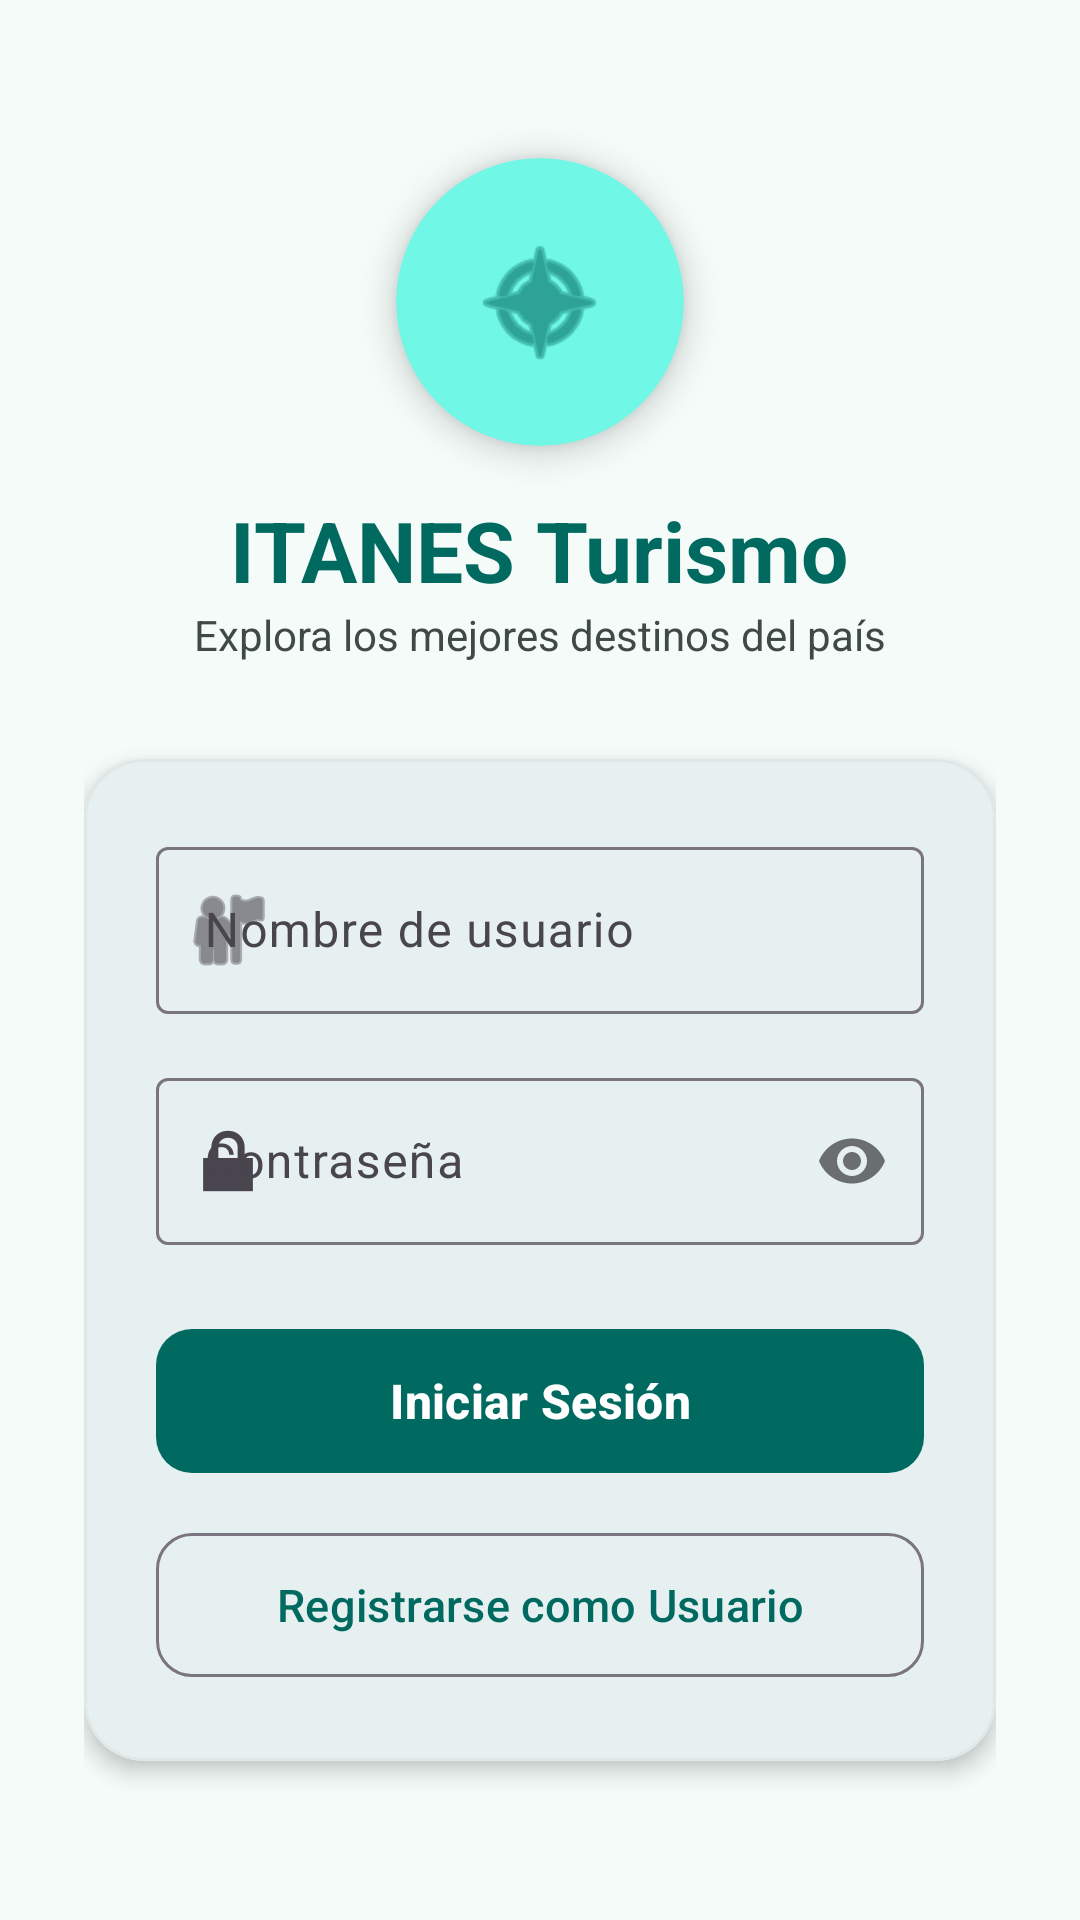

Where icons sit on this 1080w x 1920h app screen, as (x1, y1, x2, y2):
compass: (483, 246, 596, 359)
